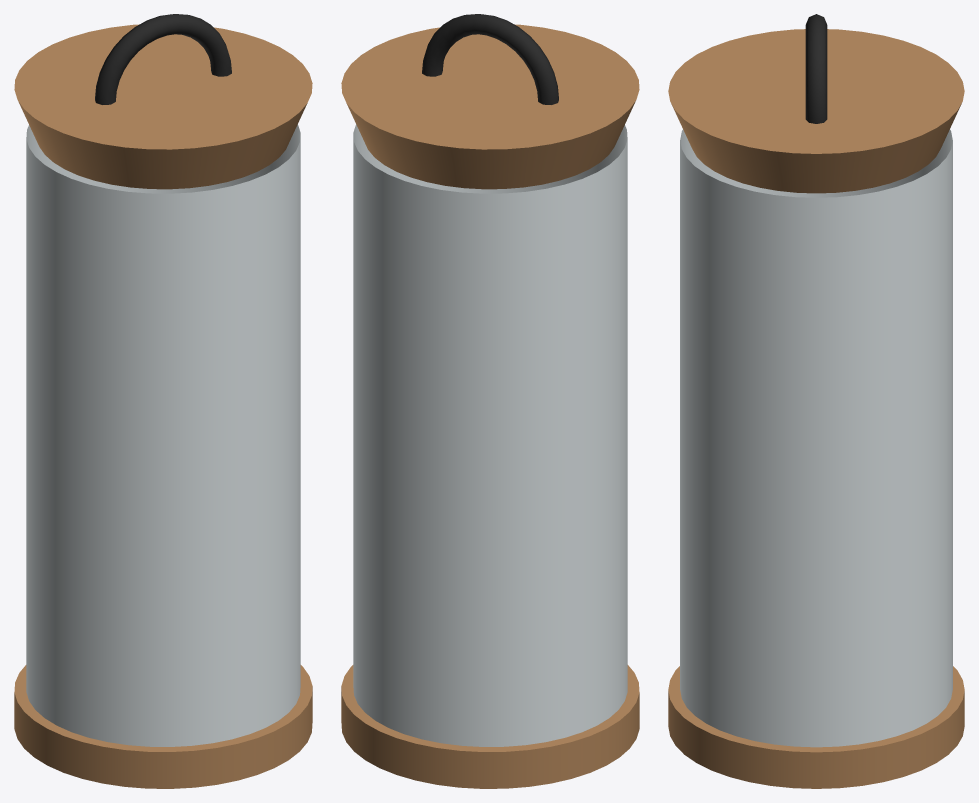
File: lantern-tall.glb
3 renders of one model, left to right at view 1: azimuth 30°, elevation 25°; view 2: azimuth 150°, elevation 25°; view 3: azimuth 270°, elevation 25°, orthographic.
Visible parts, largest first — view 1: lantern-tall; view 2: lantern-tall; view 3: lantern-tall.
Part boxes in pixels (bbox=[...]): lantern-tall: bbox=[14, 14, 312, 788]; lantern-tall: bbox=[341, 14, 639, 788]; lantern-tall: bbox=[668, 14, 964, 788].
Size of the model in its own units: 0.22 by 0.5775 by 0.22.
